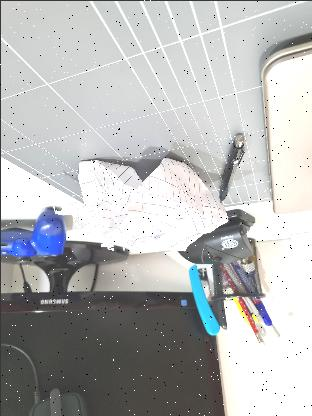Others: (61, 158, 227, 246)
